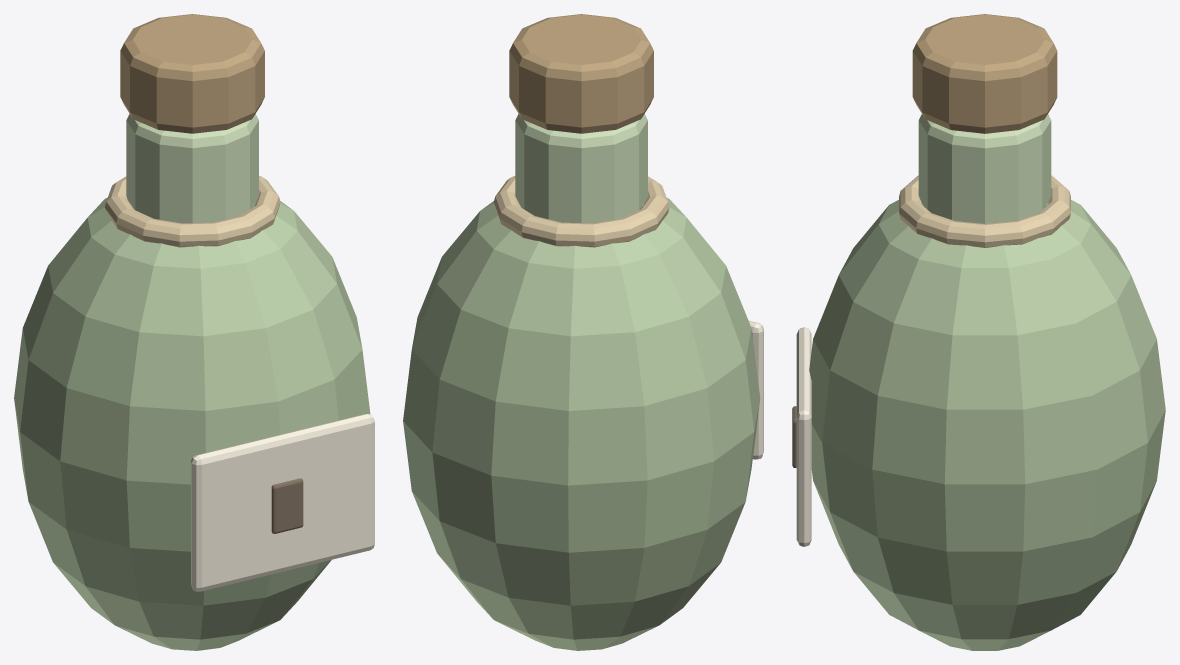
The model's file is healing_draught.glb.
3 renders of one model, left to right at view 1: azimuth 30°, elevation 25°; view 2: azimuth 150°, elevation 25°; view 3: azimuth 270°, elevation 25°, orthographic.
Parts seen in each view (by area): view 1: Body, Label, Cork, Neck, Twine, Mark; view 2: Body, Cork, Neck, Twine, Label; view 3: Body, Cork, Neck, Twine, Label.
Boxes of the visible parts, x1,y1,x2,y2 form: Body: (14,197,370,650); Label: (191,414,374,591); Cork: (120,14,264,133); Neck: (126,114,258,223); Twine: (104,175,280,247); Mark: (271,478,303,533); Body: (403,197,760,650); Cork: (509,14,653,133); Neck: (515,114,647,223); Twine: (494,176,669,247); Label: (749,320,763,459); Body: (809,200,1165,650); Cork: (912,14,1057,133); Neck: (918,114,1051,223); Twine: (899,175,1070,247); Label: (796,327,811,546).
Size of the model in its own units: 0.117 by 0.2195 by 0.124.
